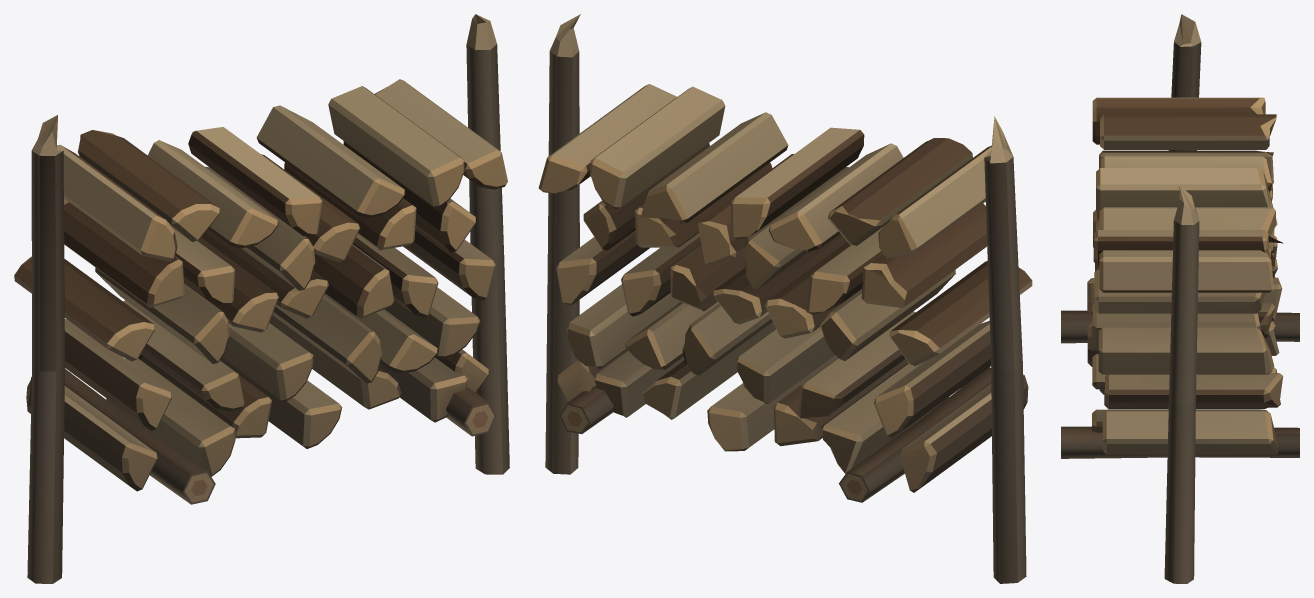
The model's file is woodpile.glb.
The picture shows the model from 3 angles, left to right: view 1: azimuth 30°, elevation 25°; view 2: azimuth 150°, elevation 25°; view 3: azimuth 270°, elevation 25°; orthographic projection. The views are drawn at different scales.
Parts seen in each view (by area): view 1: wood-001, log-001; view 2: wood-001, log-001; view 3: wood-001, log-001.
Part boxes in pixels (x1=…): wood-001: x1=14, y1=79, x2=507, y2=491; log-001: x1=27, y1=14, x2=509, y2=583; wood-001: x1=538, y1=84, x2=1032, y2=492; log-001: x1=545, y1=14, x2=1026, y2=583; wood-001: x1=1087, y1=97, x2=1283, y2=454; log-001: x1=1061, y1=14, x2=1299, y2=583.
Bounding box in the file's own units: 1.35 × 1.25 × 0.7.
